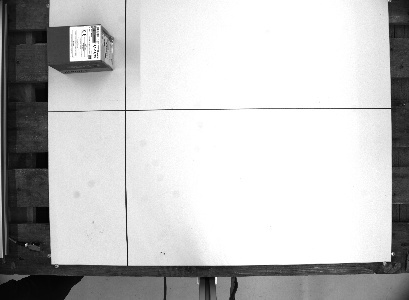b4: (43, 21, 115, 75)
